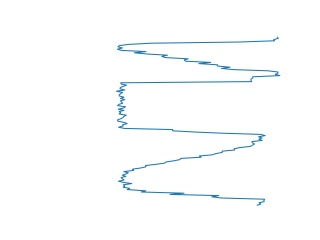distributaryChannelFill: (112, 72, 269, 143)
mouthBar: (113, 32, 281, 77)
underwaterDistributaryChannel: (115, 137, 268, 208)
